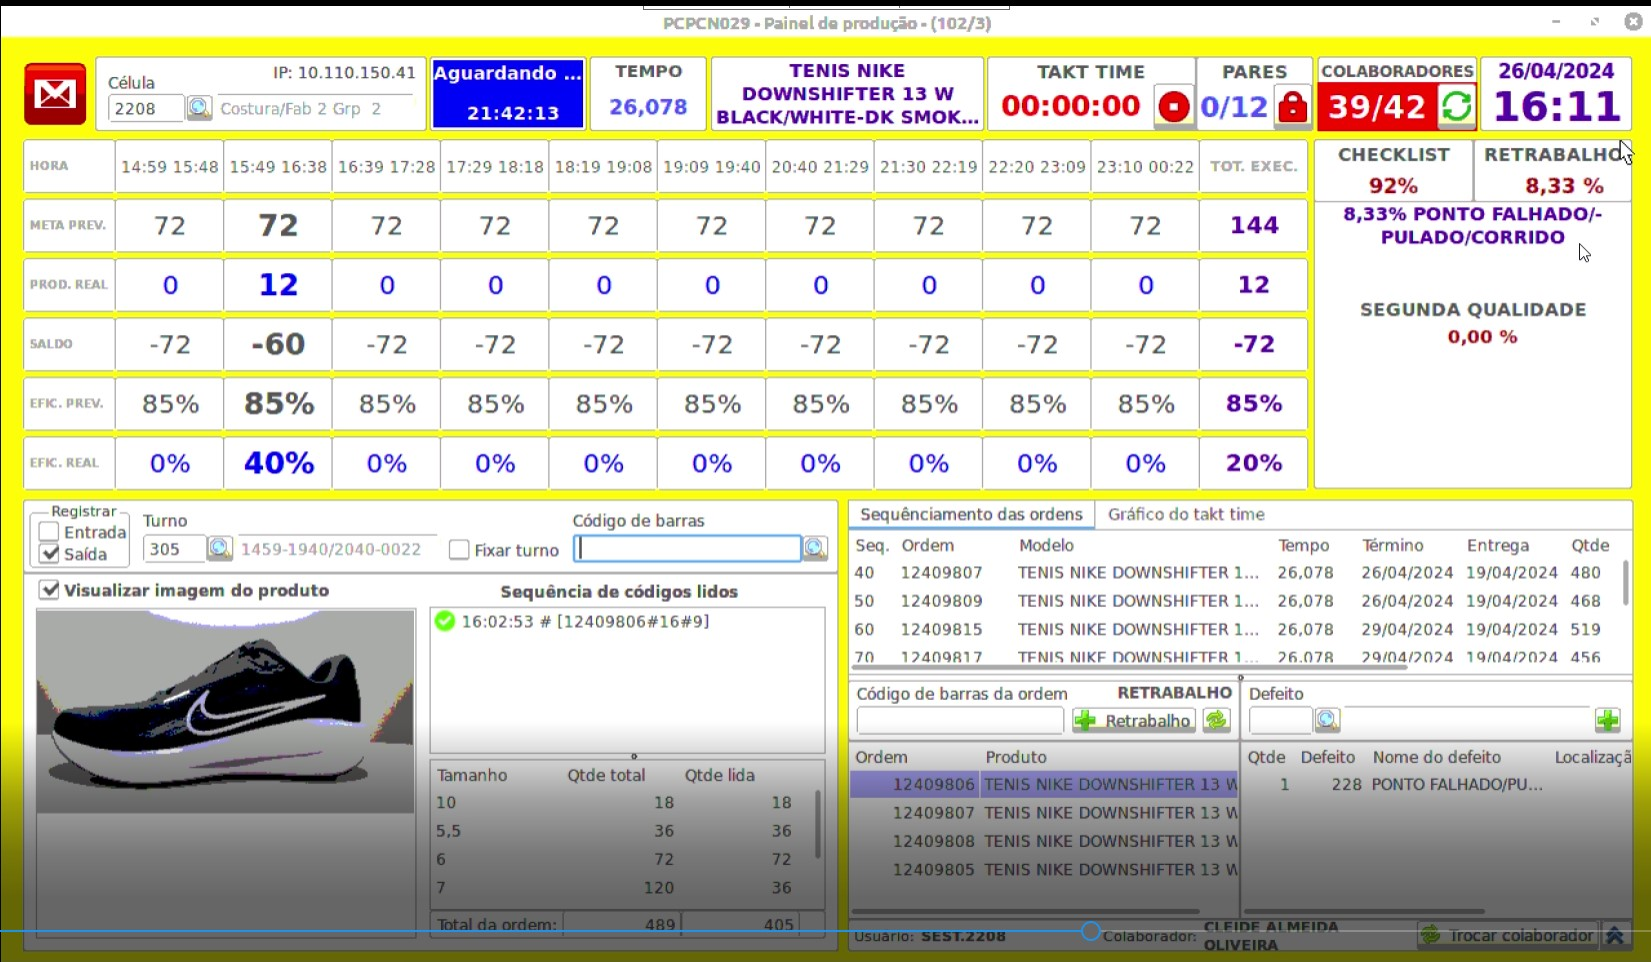takt_time: (990, 62, 1151, 126)
